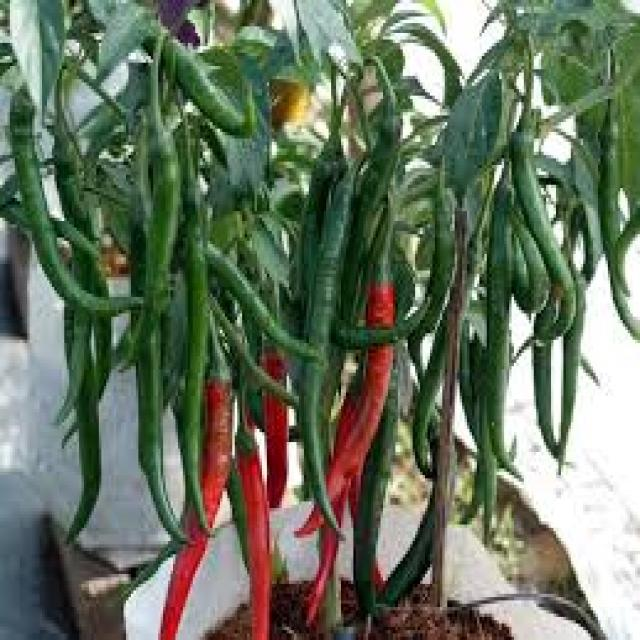sehat: (445, 71, 508, 201), (7, 0, 68, 123), (90, 0, 156, 90)
